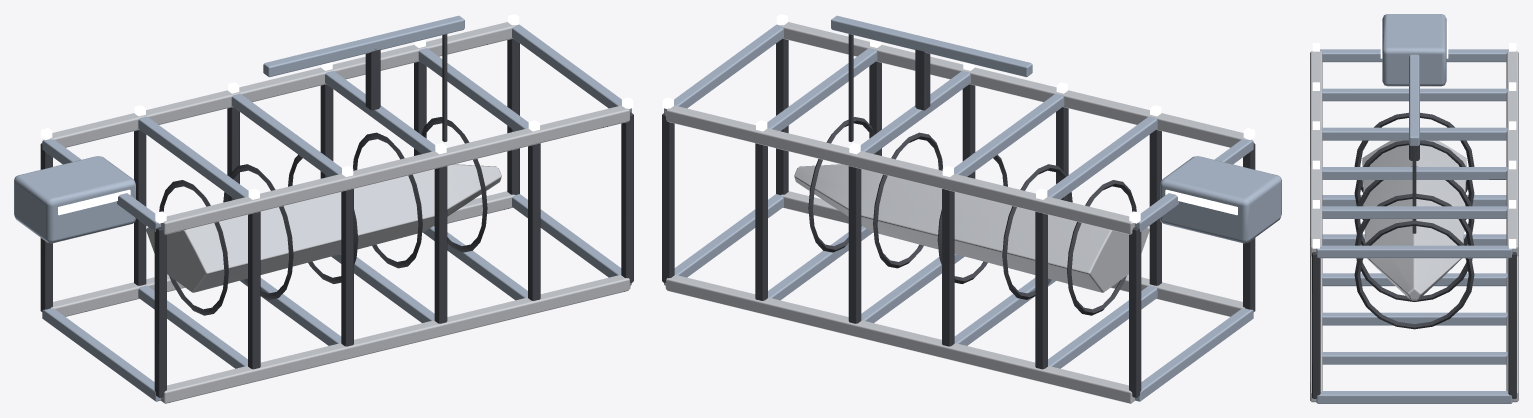
Rendered from shipyard.glb.
The picture shows the model from 3 angles, left to right: view 1: azimuth 30°, elevation 25°; view 2: azimuth 150°, elevation 25°; view 3: azimuth 270°, elevation 25°; orthographic projection. The views are drawn at different scales.
Visible parts, largest first — view 1: shipyard; view 2: shipyard; view 3: shipyard.
Boxes of the visible parts, x1,y1,x2,y2 form: shipyard: (14,14,633,403); shipyard: (662,14,1281,403); shipyard: (1310,14,1518,403).
Bounding box in the file's own units: 1.52 × 0.6825 × 0.585.
